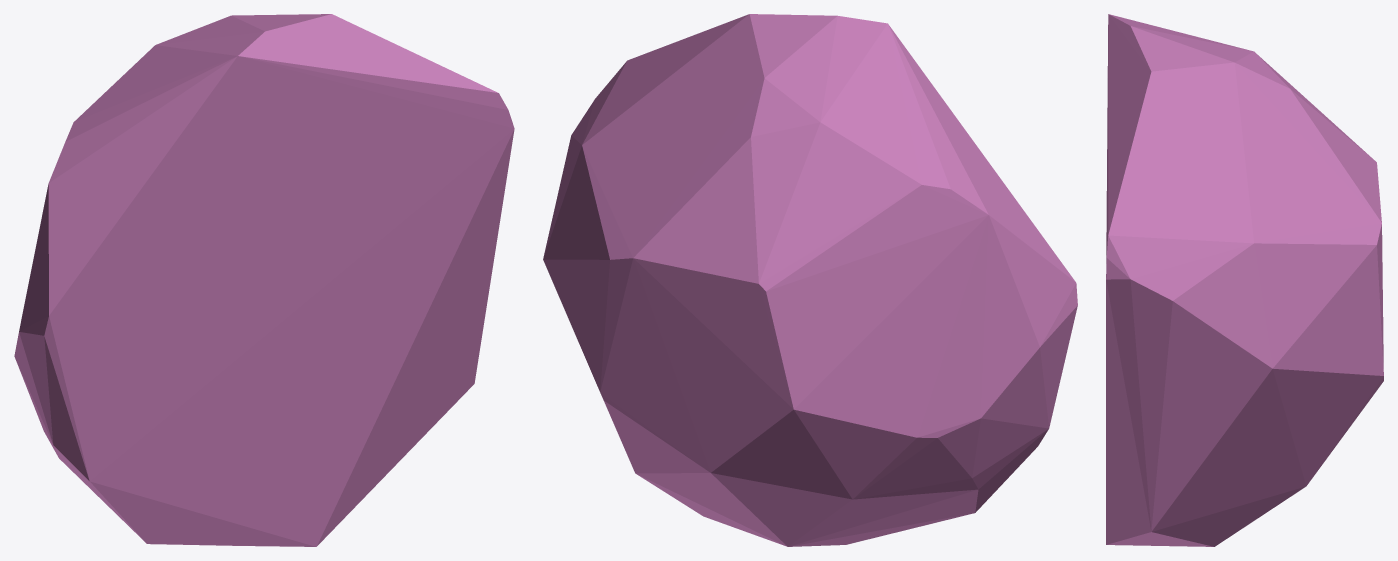
File: kitchenware_bowl_o01.glb
3 views of the same model, side by side, from view 1: azimuth 30°, elevation 25°; view 2: azimuth 150°, elevation 25°; view 3: azimuth 270°, elevation 25° (orthographic). The views are drawn at different scales.
Parts seen in each view (by area): view 1: geometry_0; view 2: geometry_0; view 3: geometry_0.
Part boxes in pixels (x1=…): geometry_0: x1=14, y1=14, x2=514, y2=546; geometry_0: x1=543, y1=14, x2=1077, y2=546; geometry_0: x1=1106, y1=14, x2=1383, y2=546.
Bounding box in the file's own units: 0.4546 × 0.4724 × 0.2367.
